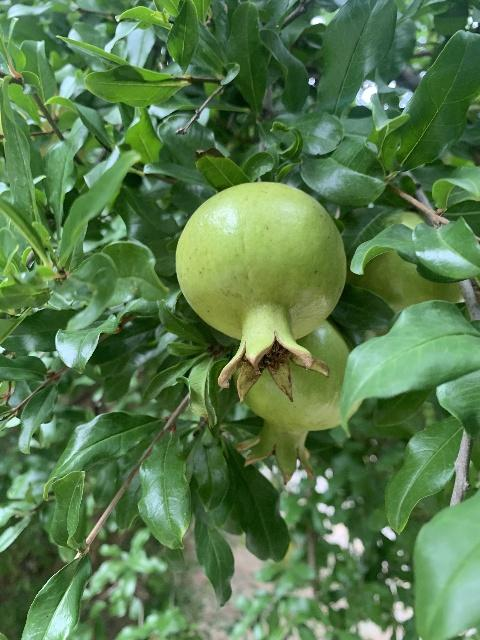mid-growth: (174, 182, 347, 404), (235, 320, 362, 486), (346, 211, 464, 314)
